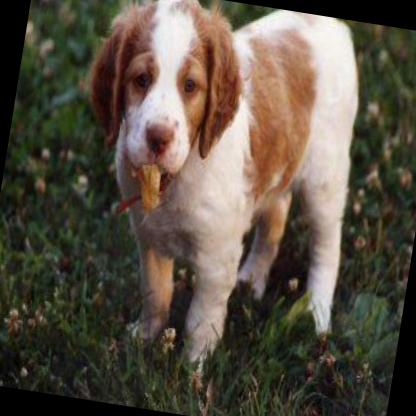Brittany_spaniel: (41, 0, 379, 396)
